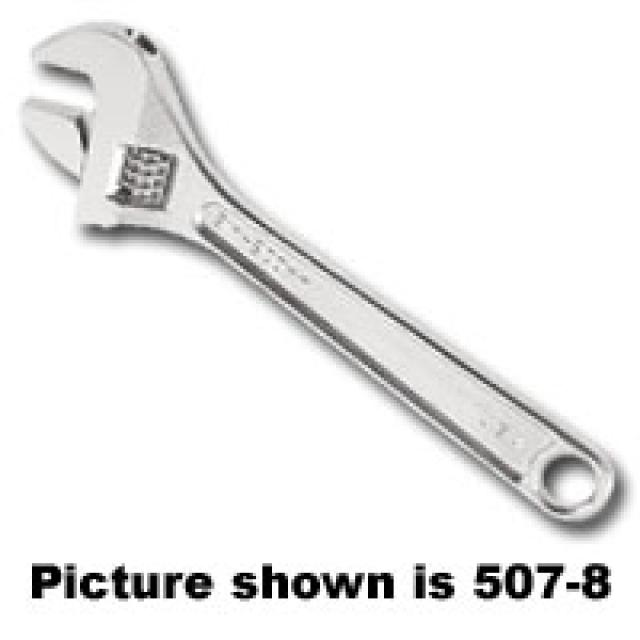wrench: (6, 8, 640, 513)
